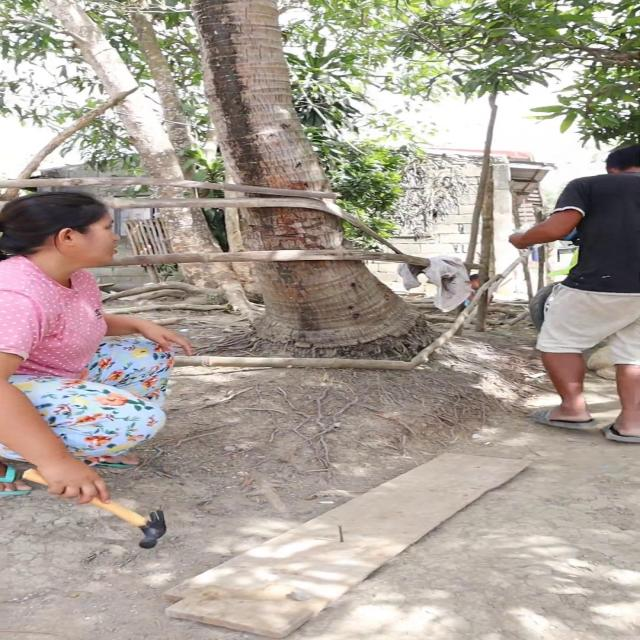hammer: (16, 464, 166, 552)
